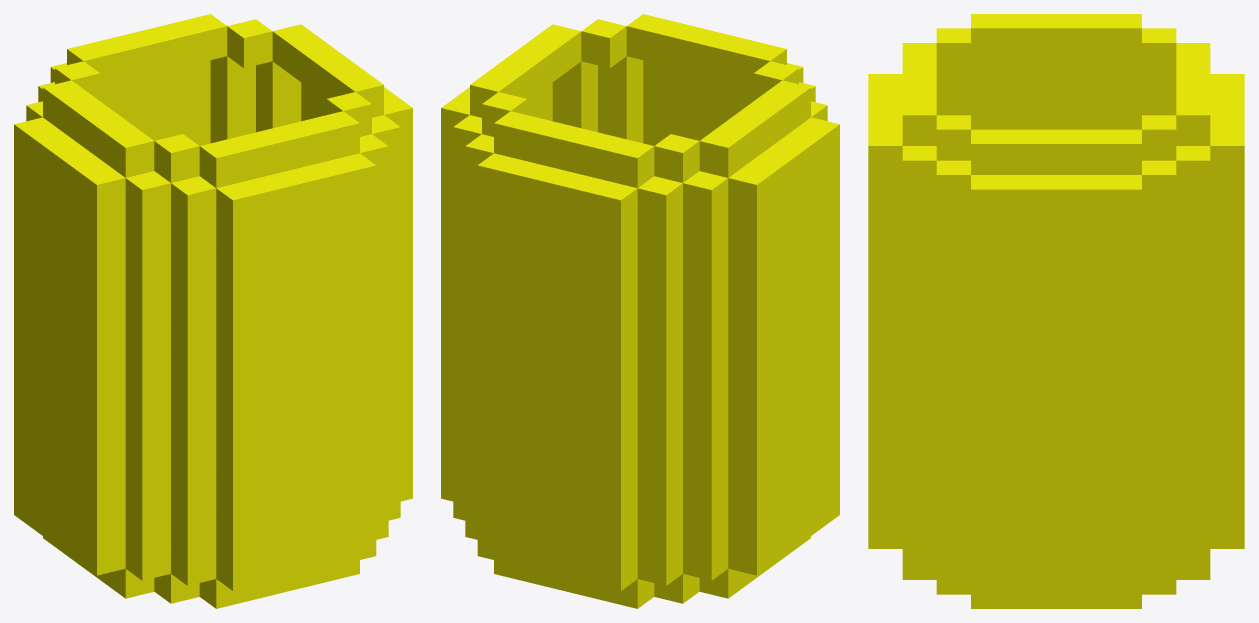
Rendered from voxel-village-barrel.glb.
The picture shows the model from 3 angles, left to right: view 1: azimuth 30°, elevation 25°; view 2: azimuth 150°, elevation 25°; view 3: azimuth 270°, elevation 25°; orthographic projection. The views are drawn at different scales.
Visible parts, largest first — view 1: VS_Villagers_Barrel; view 2: VS_Villagers_Barrel; view 3: VS_Villagers_Barrel.
Part boxes in pixels (bbox=[...]): VS_Villagers_Barrel: bbox=[14, 14, 412, 608]; VS_Villagers_Barrel: bbox=[441, 14, 839, 608]; VS_Villagers_Barrel: bbox=[868, 14, 1244, 608].
Bounding box in the file's own units: 1.1 × 1.5 × 1.1.
